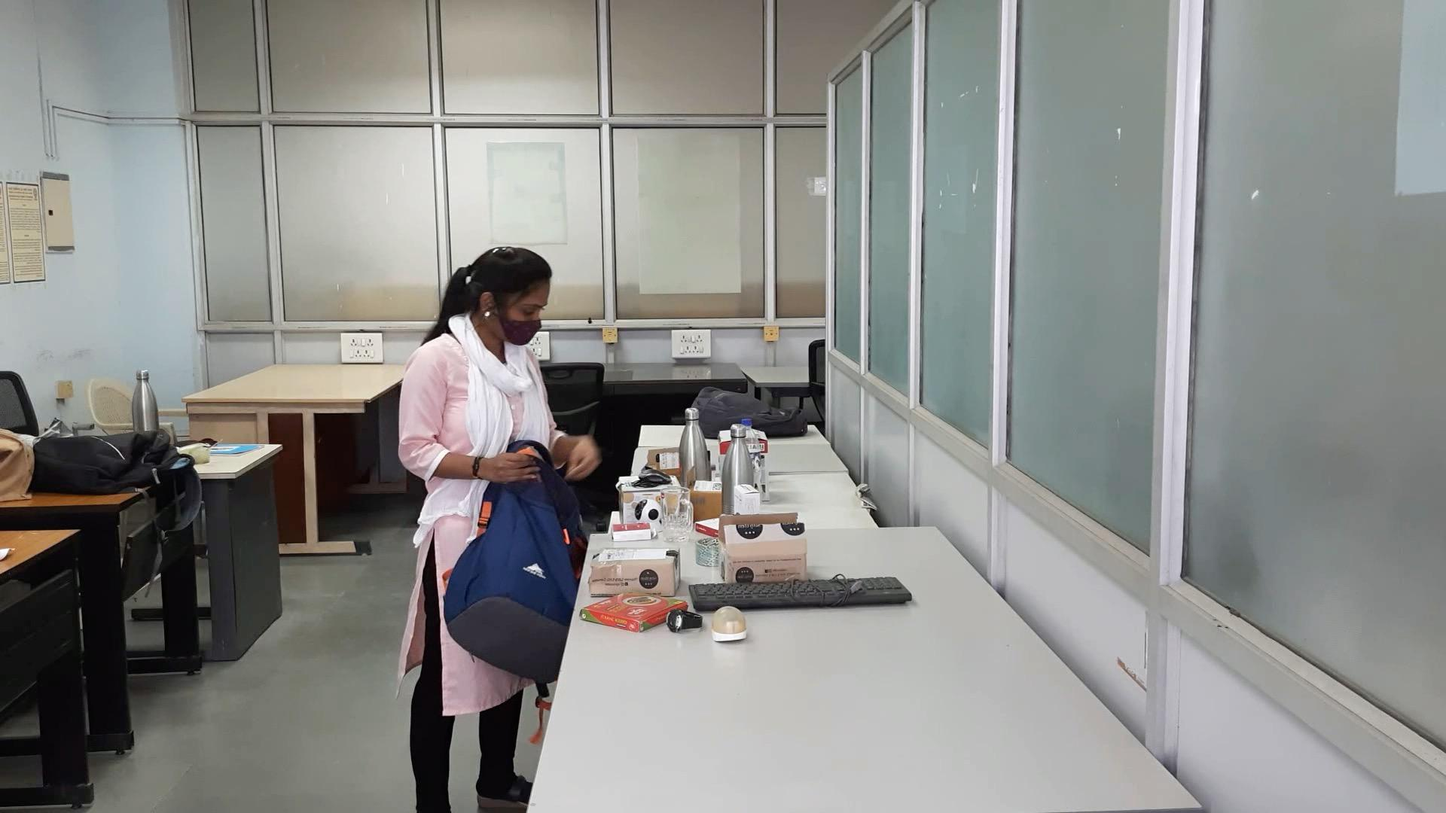shoplifting: (378, 367, 638, 703)
